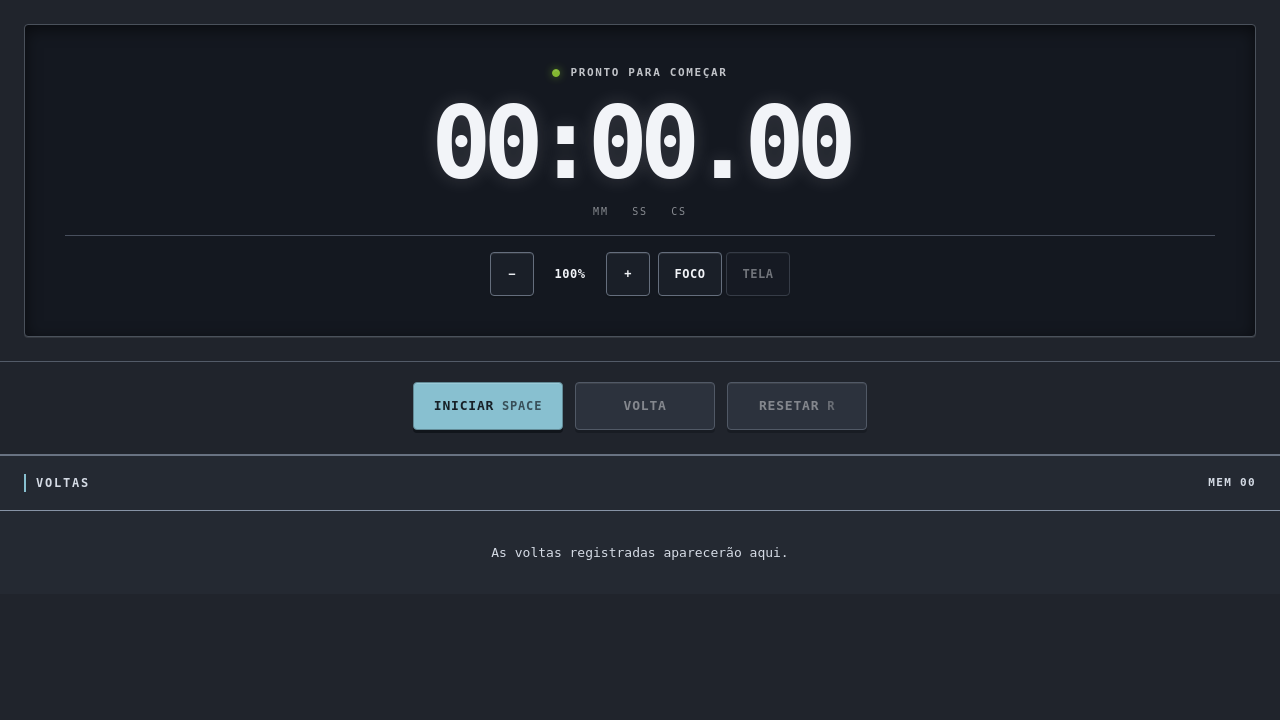
Test: StopwatchPanel › records a lap and reset clears the list
Click the button with aria-label "Iniciar Cronômetro". click: (488, 406)
box: [413,382,563,430]
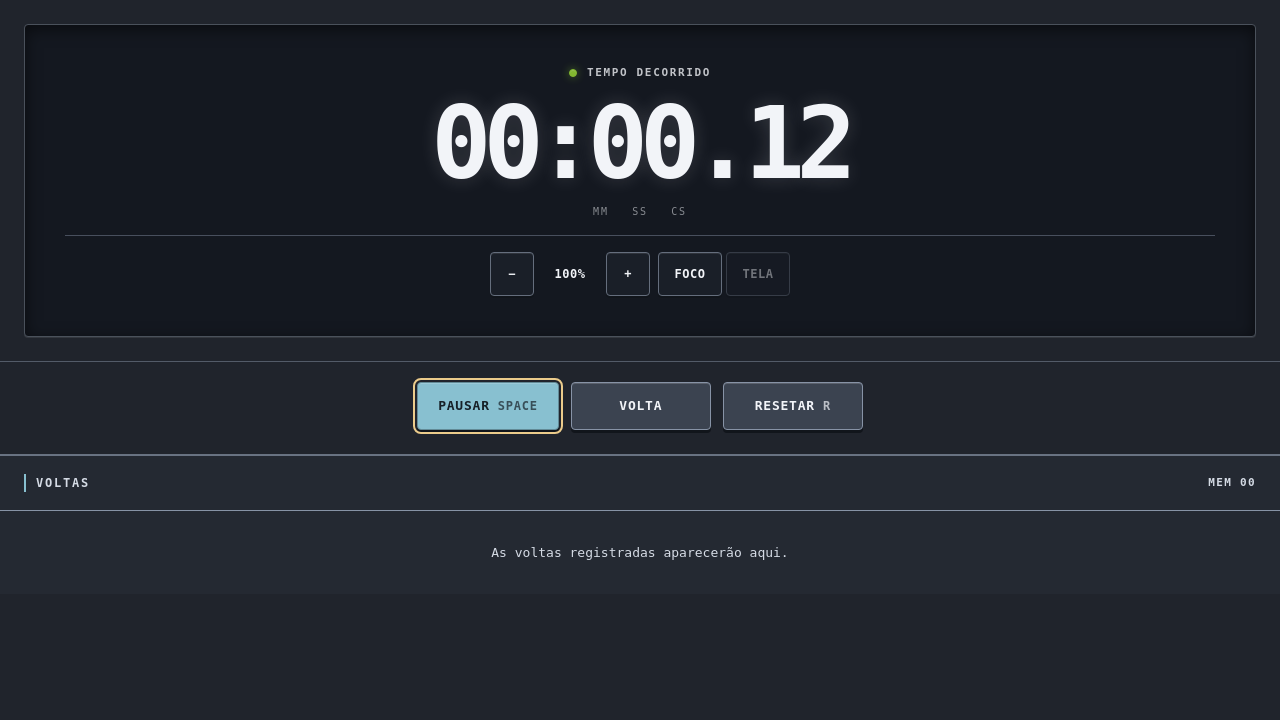
Click the button with aria-label "Registrar volta". click: (641, 406)
box: [571,382,711,430]
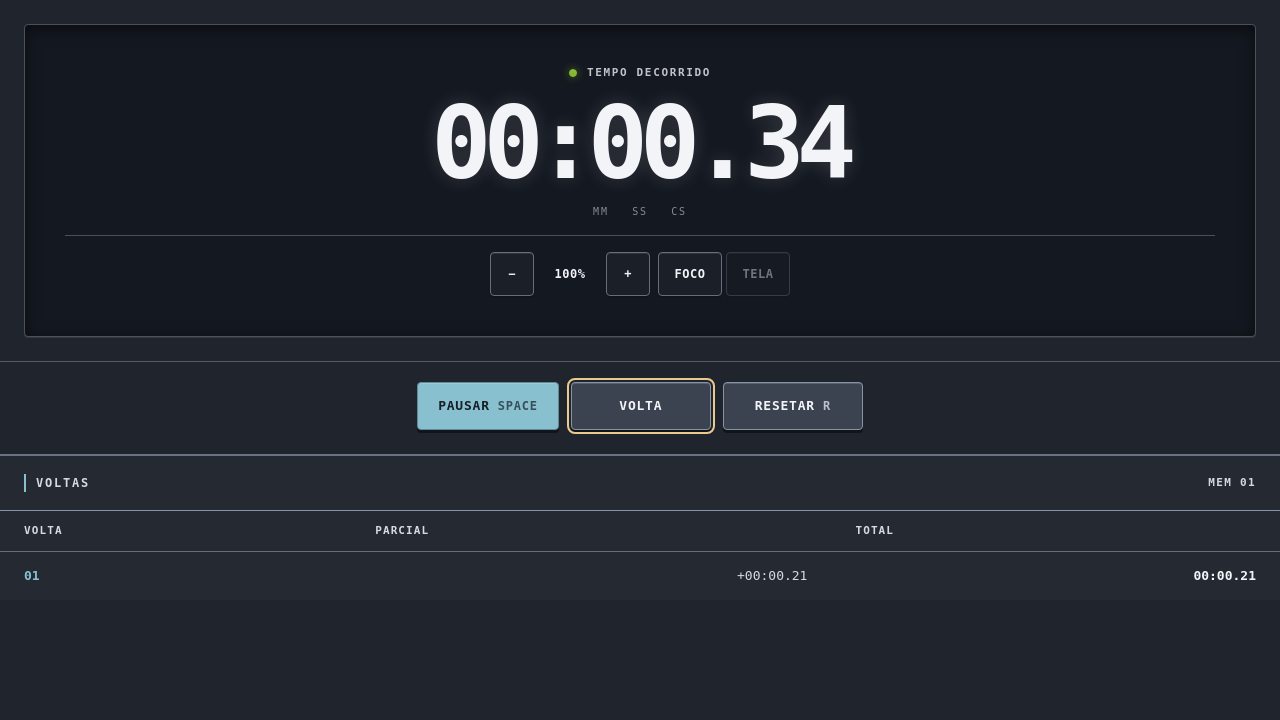
Now the element named "Lista de voltas" is shown, box [0,511,1279,600]
Now the column heading "01" is shown, box [0,552,351,600]
Click the button with aria-label "Resetar Cronômetro". click: (793, 406)
box: [723,382,863,430]
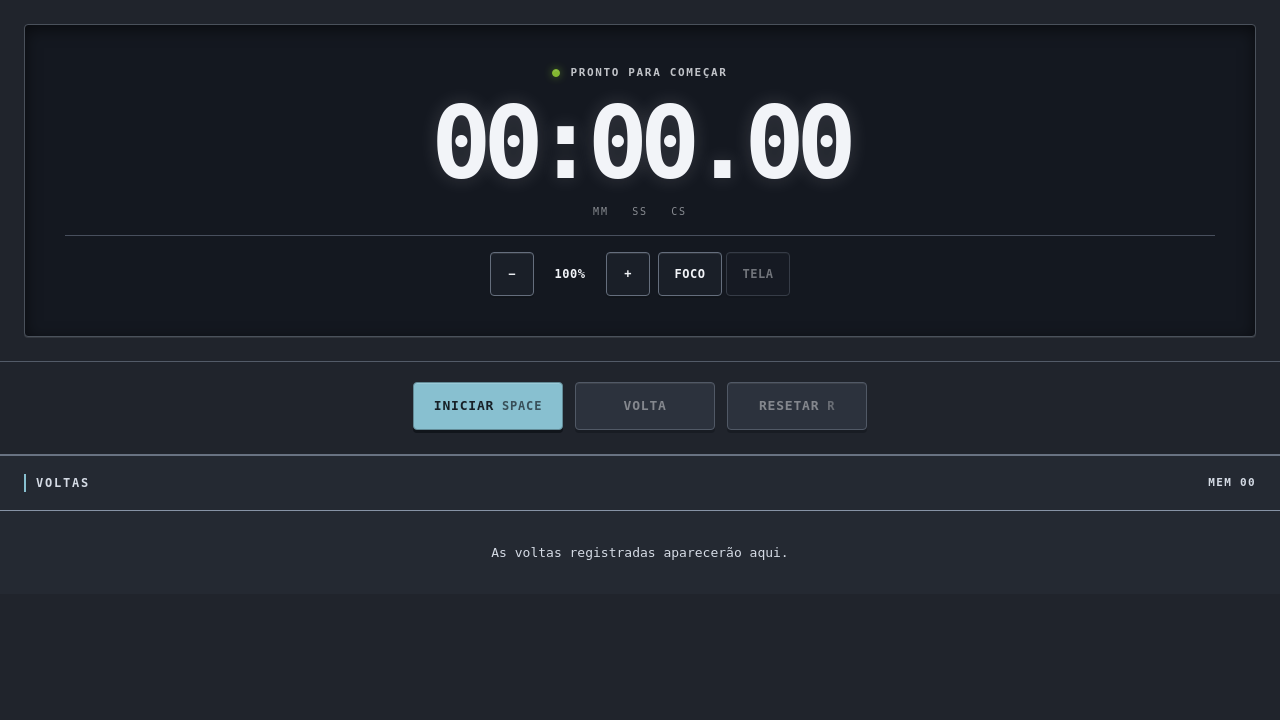
Now the text "As voltas registradas aparecerão aqui." is shown, box [491,545,789,560]
